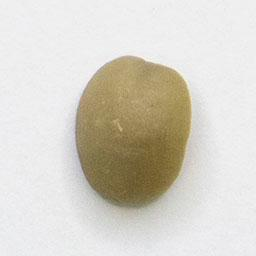premium: (71, 53, 195, 212)
